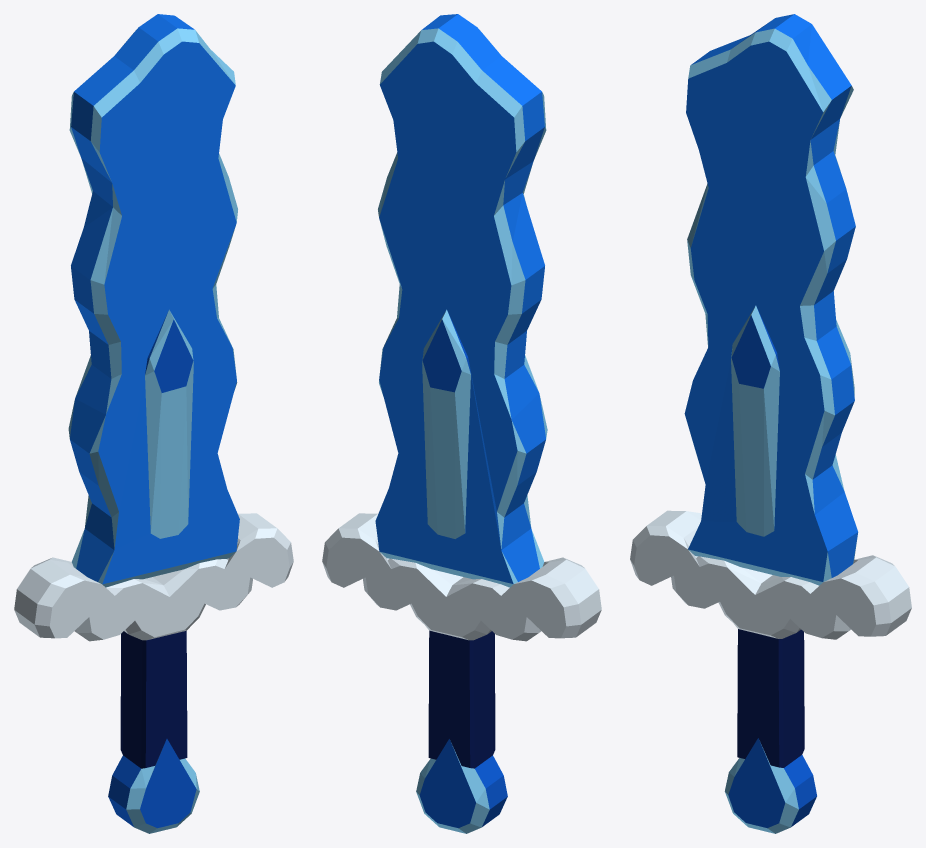
The model's file is BE_PowerMesh_HeldWaterSword.fbx.
The picture shows the model from 3 angles, left to right: view 1: azimuth 30°, elevation 25°; view 2: azimuth 150°, elevation 25°; view 3: azimuth 330°, elevation 25°; orthographic projection.
Parts seen in each view (by area): view 1: BE_PowerMesh_HeldWaterSword; view 2: BE_PowerMesh_HeldWaterSword; view 3: BE_PowerMesh_HeldWaterSword.
Boxes of the visible parts, x1,y1,x2,y2 form: BE_PowerMesh_HeldWaterSword: (14, 14, 293, 833); BE_PowerMesh_HeldWaterSword: (322, 14, 601, 833); BE_PowerMesh_HeldWaterSword: (630, 14, 911, 833).
Size of the model in its own units: 190 by 560 by 50.19.
Materials: 1 (1 with a texture image).
